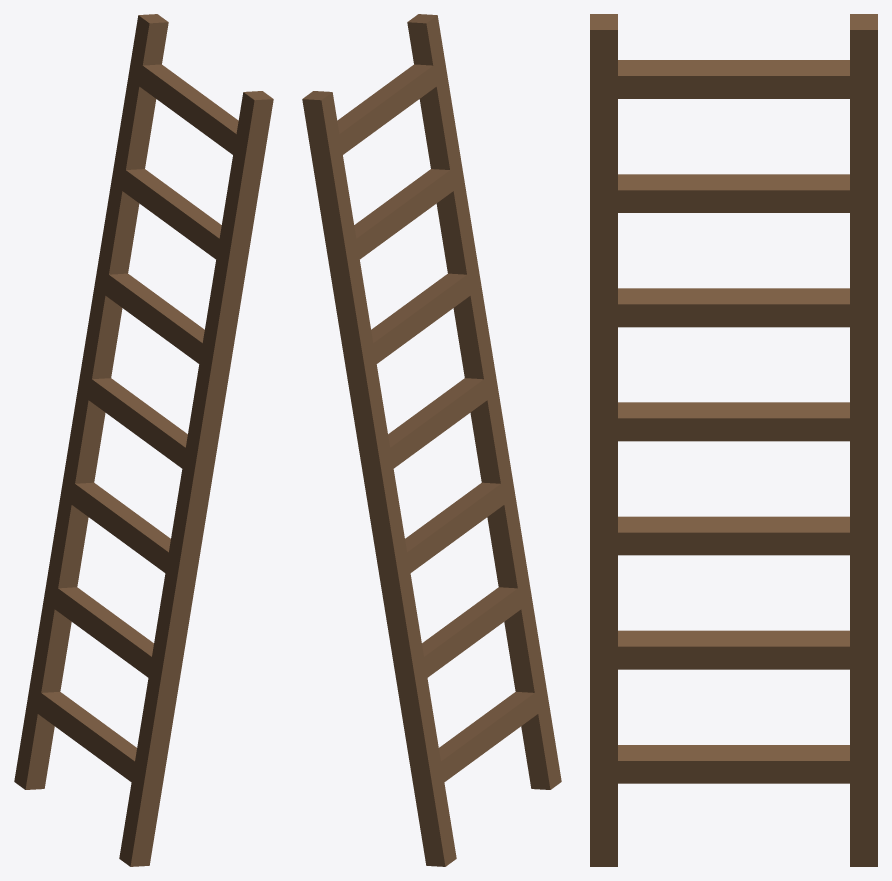
The model's file is ladder.glb.
The picture shows the model from 3 angles, left to right: view 1: azimuth 30°, elevation 25°; view 2: azimuth 150°, elevation 25°; view 3: azimuth 270°, elevation 25°; orthographic projection. The views are drawn at different scales.
Parts seen in each view (by area): view 1: Cube.001; view 2: Cube.001; view 3: Cube.001.
Part boxes in pixels (x1,y1,x2,y2): Cube.001: (14, 14, 273, 866); Cube.001: (302, 14, 561, 866); Cube.001: (590, 14, 877, 866).
Size of what is drawn, in the model's own units: 1.1 by 5.44 by 1.55.
